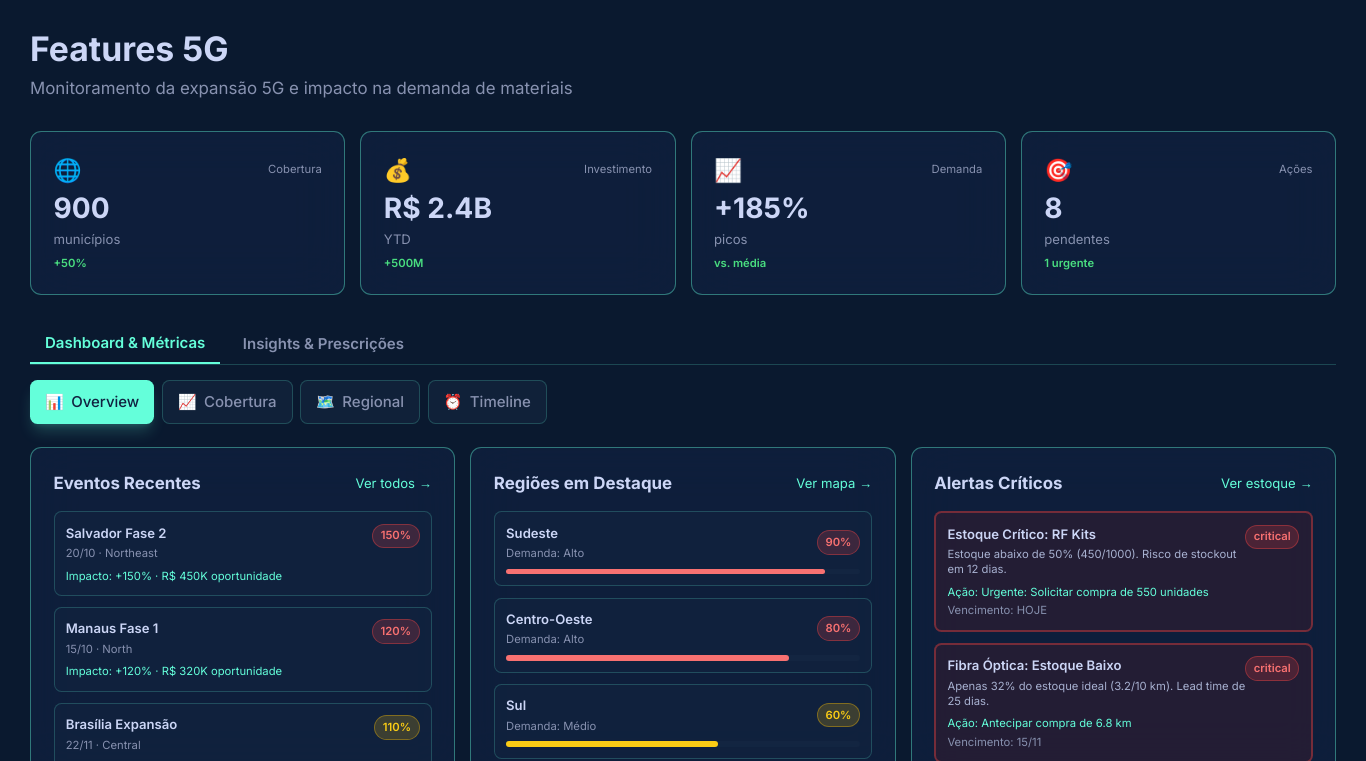
Test: 5G Features Page Component › Tab Navigation › should switch between main tabs
Expected: the button "Dashboard & Métricas" is shown, x1=30 y1=324 x2=220 y2=364
Click the button "Insights & Prescrições": (323, 344) x1=228 y1=324 x2=419 y2=364
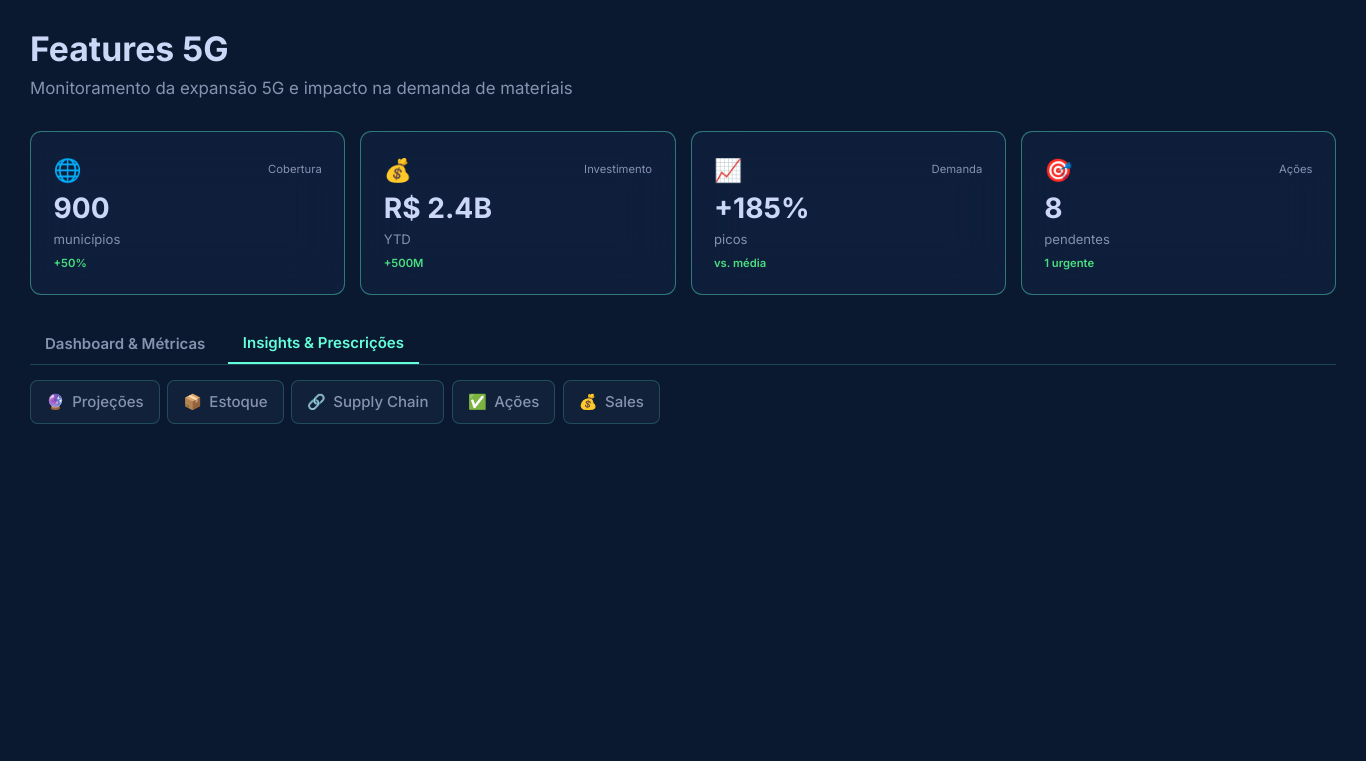
Now the text "Projeções" is shown, box x1=72 y1=391 x2=144 y2=413
